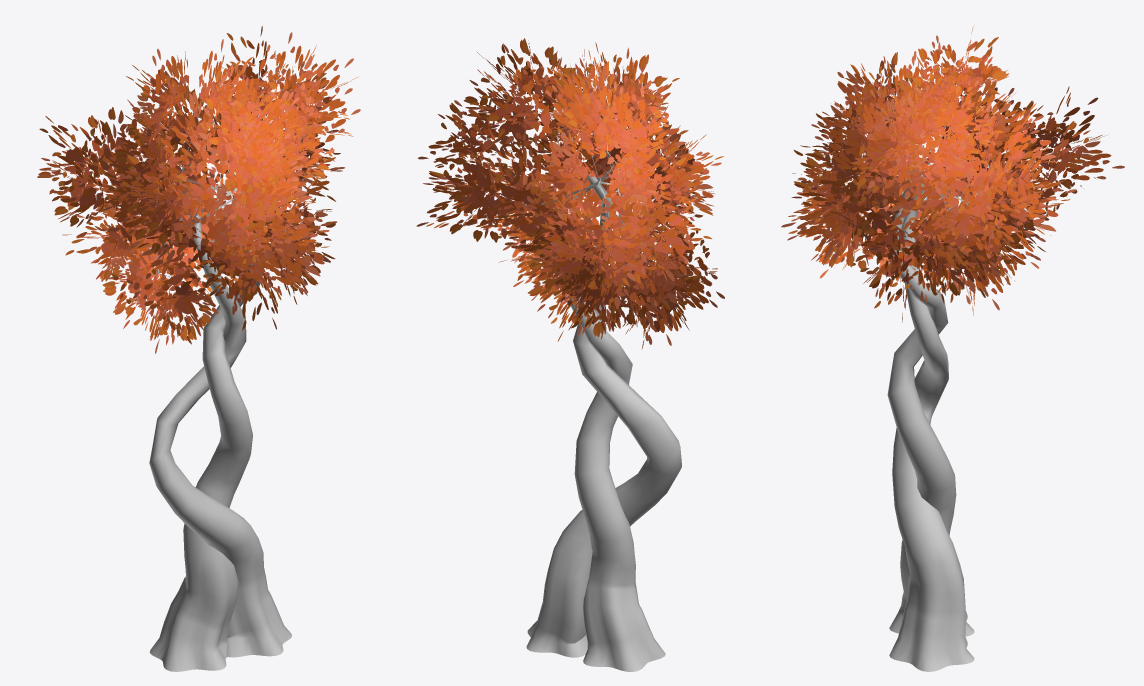
Rendered from Tree2.fbx.
3 renders of one model, left to right at view 1: azimuth 30°, elevation 25°; view 2: azimuth 150°, elevation 25°; view 3: azimuth 270°, elevation 25°, orthographic.
Visible parts, largest first — view 1: Tree2_LOD0; view 2: Tree2_LOD0; view 3: Tree2_LOD0.
Boxes of the visible parts, x1=… form: Tree2_LOD0: x1=37, y1=26, x2=360, y2=671; Tree2_LOD0: x1=416, y1=38, x2=724, y2=671; Tree2_LOD0: x1=781, y1=26, x2=1124, y2=671.
Size of the model in its own units: 702 by 1338 by 712.
2 materials, 1 textured.
